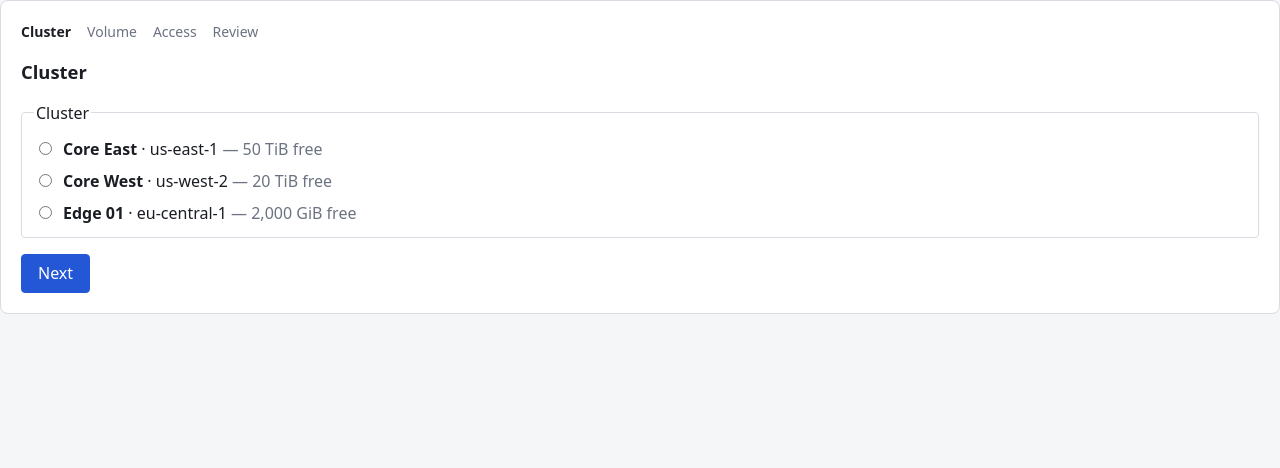
Test: Wizard › advances with focus on the heading and keeps the selection on Back
What coordinates should you click on to do the following:
click the radio button labelled "Core West · us-west-2 — 20 TiB free"
I would click on:
 (46, 180)
Its box is [39, 174, 52, 187].
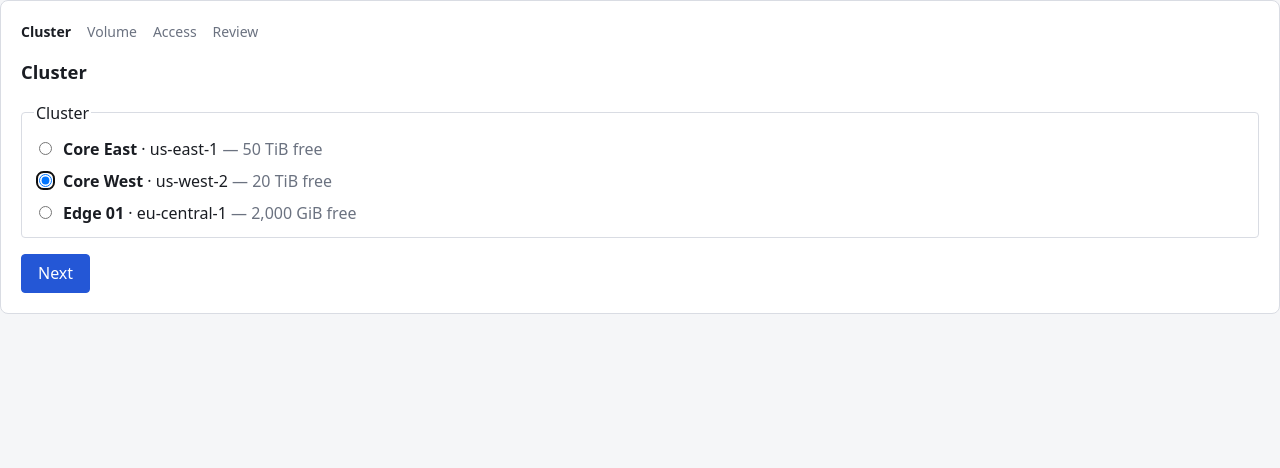
What coordinates should you click on to do the following:
click the button "Next"
I would click on:
 (56, 273)
Its box is [21, 254, 90, 293].
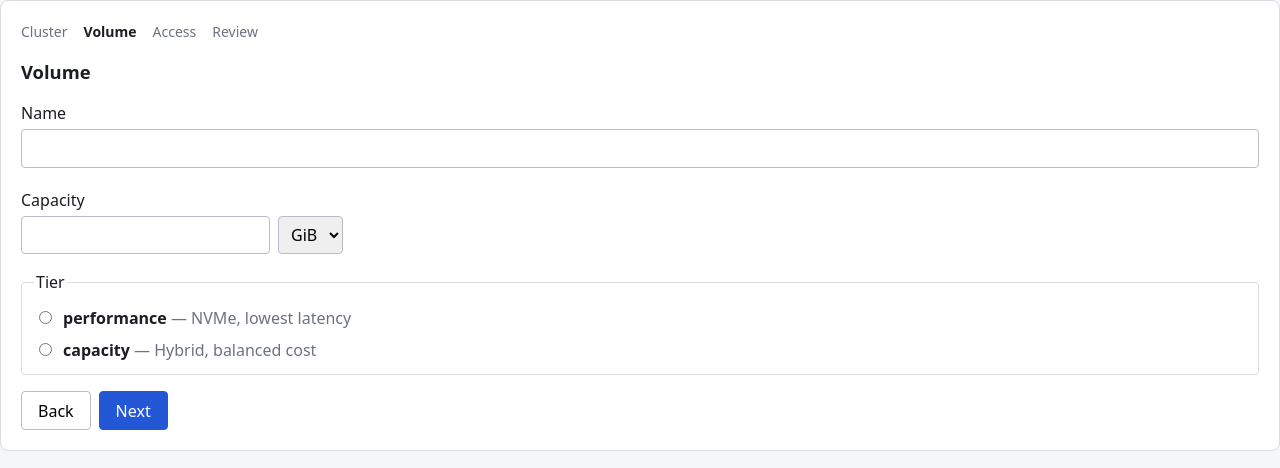
What coordinates should you click on to do the following:
click the button "Back"
I would click on:
 (56, 411)
Its box is [21, 391, 91, 430].
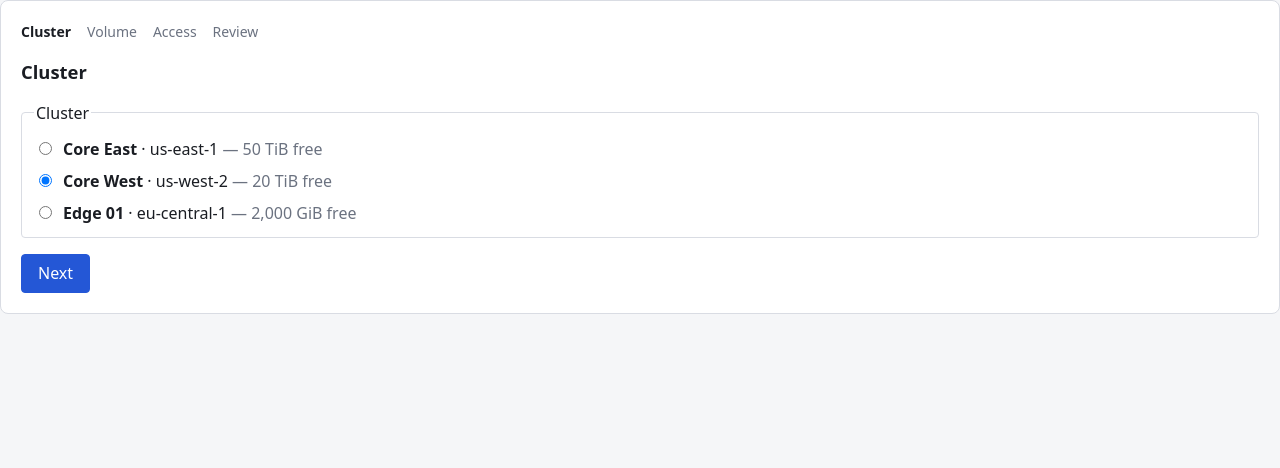
Check: the radio button labelled "Core West · us-west-2 — 20 TiB free" is checked, box [39, 174, 52, 187]
